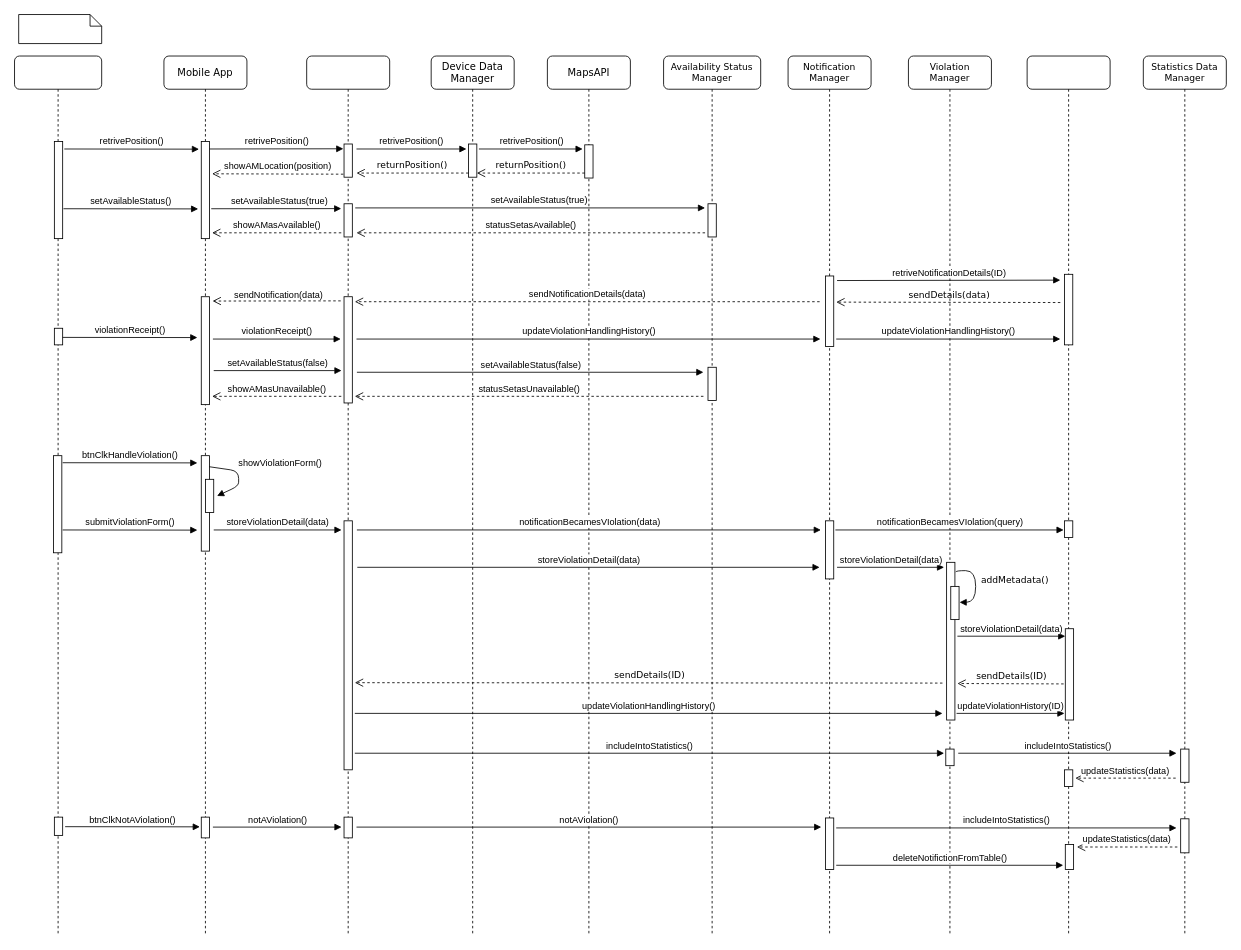
The diagram is 1241 pixels wide and 950 high, and some of its shapes have lost their labels. The centre of each missing label's shape, as x and y in pixels:
"AM : Actor" belongs at (x=58, y=495).
"AM already logged" belongs at (x=60, y=29).
"Customer Control Activity" belongs at (x=348, y=495).
"DBMS" belongs at (x=1068, y=495).
